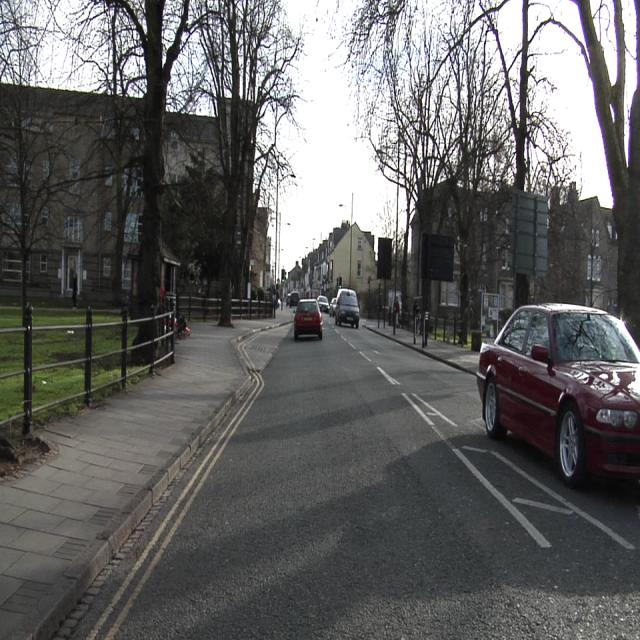Building: (511, 185, 618, 314), (285, 221, 376, 297)
Car: (480, 305, 639, 486), (294, 300, 323, 339), (334, 289, 359, 327)
Road: (56, 318, 636, 637)
Tree: (322, 3, 639, 334), (3, 1, 306, 312)
